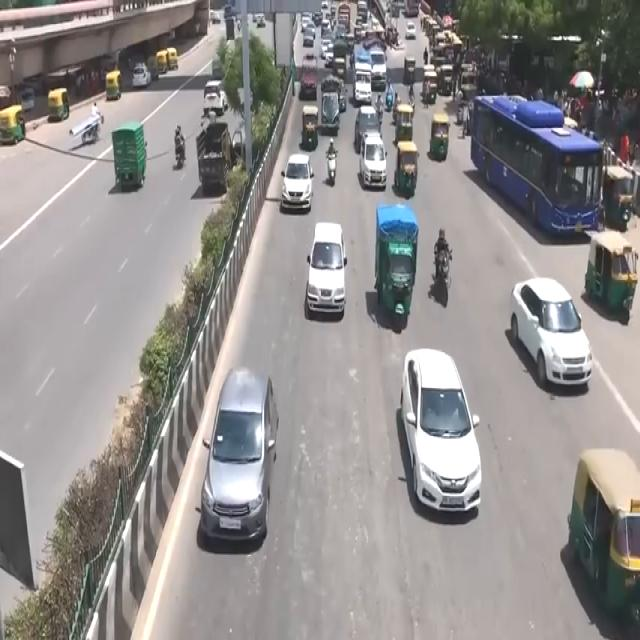BUS: (475, 90, 610, 244)
MOTORCYCLE: (438, 252, 454, 309)
